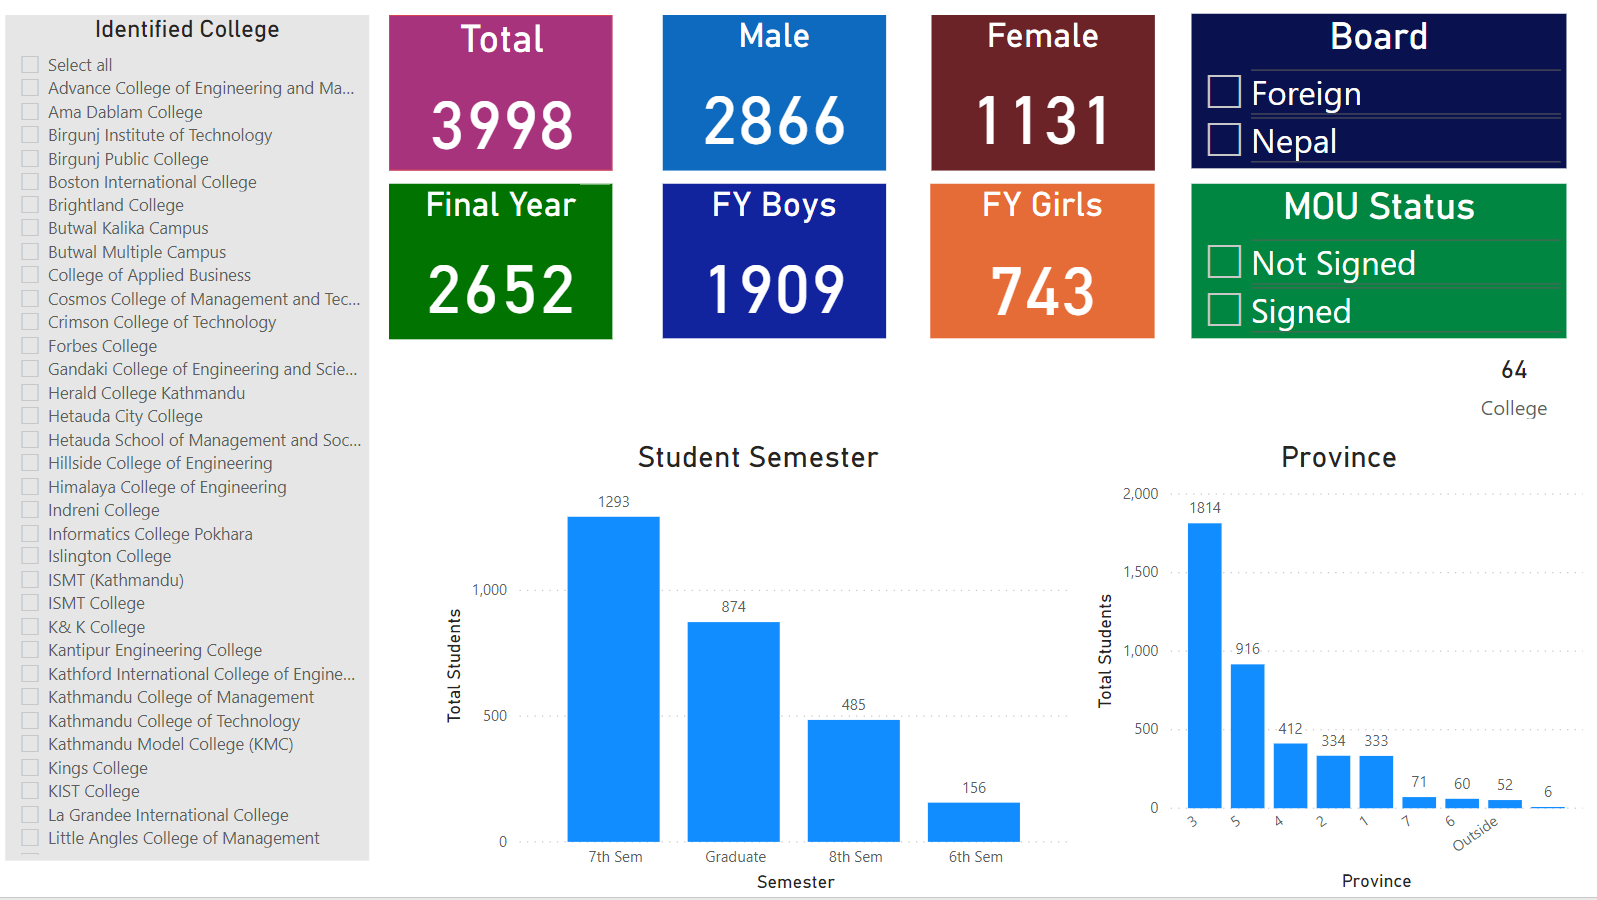

The page's visual inventory and layout, read from the dashboard file:
{"tool":"powerbi","page":{"name":"MOU College","canvas":[1280,720],"ordinal":1},"visuals":[{"type":"slicer","title":"Identified College","fields":{"Values":["identifiedCollege (2).profile_field_collegename"]},"box":[9.3,11.6,292.1,678.4],"z":0},{"type":"card","title":"Total","fields":{"Values":["CountNonNull(user_latest.id)"]},"box":[316.5,11.6,179.2,124.5],"z":1000},{"type":"card","title":"Male","fields":{"Values":["CountNonNull(user_latest.profile_field_gender)"]},"box":[536.4,11.6,179.2,124.5],"z":2000},{"type":"card","title":"Female","fields":{"Values":["CountNonNull(user_latest.profile_field_gender)"]},"box":[751.7,11.6,179.2,124.5],"z":3000},{"type":"columnChart","title":"Student Semester","fields":{"Category":["user_latest.profile_field_Semester1"],"Y":["CountNonNull(user_latest.profile_field_Semester)1"]},"box":[356.4,351.5,513.9,368.5],"z":4000},{"type":"columnChart","title":"Province","fields":{"Category":["user_latest.profile_field_Province"],"Y":["CountNonNull(user_latest.profile_field_Province)"]},"box":[879,351.6,401,368.1],"z":5000},{"type":"slicer","title":"MOU Status","fields":{"Values":["identifiedCollege (2).status"]},"box":[960.4,147.6,300.7,124.1],"z":6000},{"type":"card","title":"Final Year","fields":{"Values":["CountNonNull(user_latest.id)"]},"box":[316.5,147.8,179.2,124.5],"z":7000},{"type":"card","title":"FY Boys","fields":{"Values":["CountNonNull(user_latest.profile_field_gender)"]},"box":[536.6,147.6,178.9,124.1],"z":8000},{"type":"card","title":"FY Girls","fields":{"Values":["CountNonNull(user_latest.profile_field_gender)"]},"box":[751.3,147.6,180,124.1],"z":9000},{"type":"slicer","title":"Board","fields":{"Values":["identifiedCollege (2).board"]},"box":[960.4,11.2,300.7,124.1],"z":10000},{"type":"card","fields":{"Values":["CountNonNull(identifiedCollege.profile_field_collegename)"]},"box":[1178.2,272.7,82.4,67.9],"z":11000}]}

Visuals, with their boxes in screenshot pixels (x1, y1, x2, y2), scaled from the page's 1280x720 canvas onto the 1597x900 screenshot:
"Identified College" slicer: x1=12 y1=14 x2=376 y2=862
"Total" card: x1=395 y1=14 x2=618 y2=170
"Male" card: x1=669 y1=14 x2=893 y2=170
"Female" card: x1=938 y1=14 x2=1161 y2=170
"Student Semester" columnChart: x1=445 y1=439 x2=1086 y2=899
"Province" columnChart: x1=1097 y1=440 x2=1596 y2=899
"MOU Status" slicer: x1=1198 y1=184 x2=1573 y2=340
"Final Year" card: x1=395 y1=185 x2=618 y2=340
"FY Boys" card: x1=669 y1=184 x2=893 y2=340
"FY Girls" card: x1=937 y1=184 x2=1162 y2=340
"Board" slicer: x1=1198 y1=14 x2=1573 y2=169
card - CountNonNull(identifiedCollege.profile_field_collegename): x1=1470 y1=341 x2=1573 y2=426
